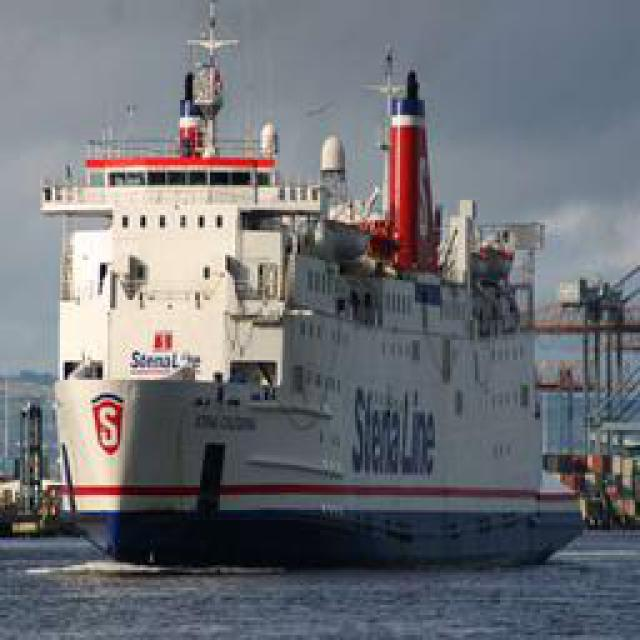Ship: (45, 30, 590, 573)
